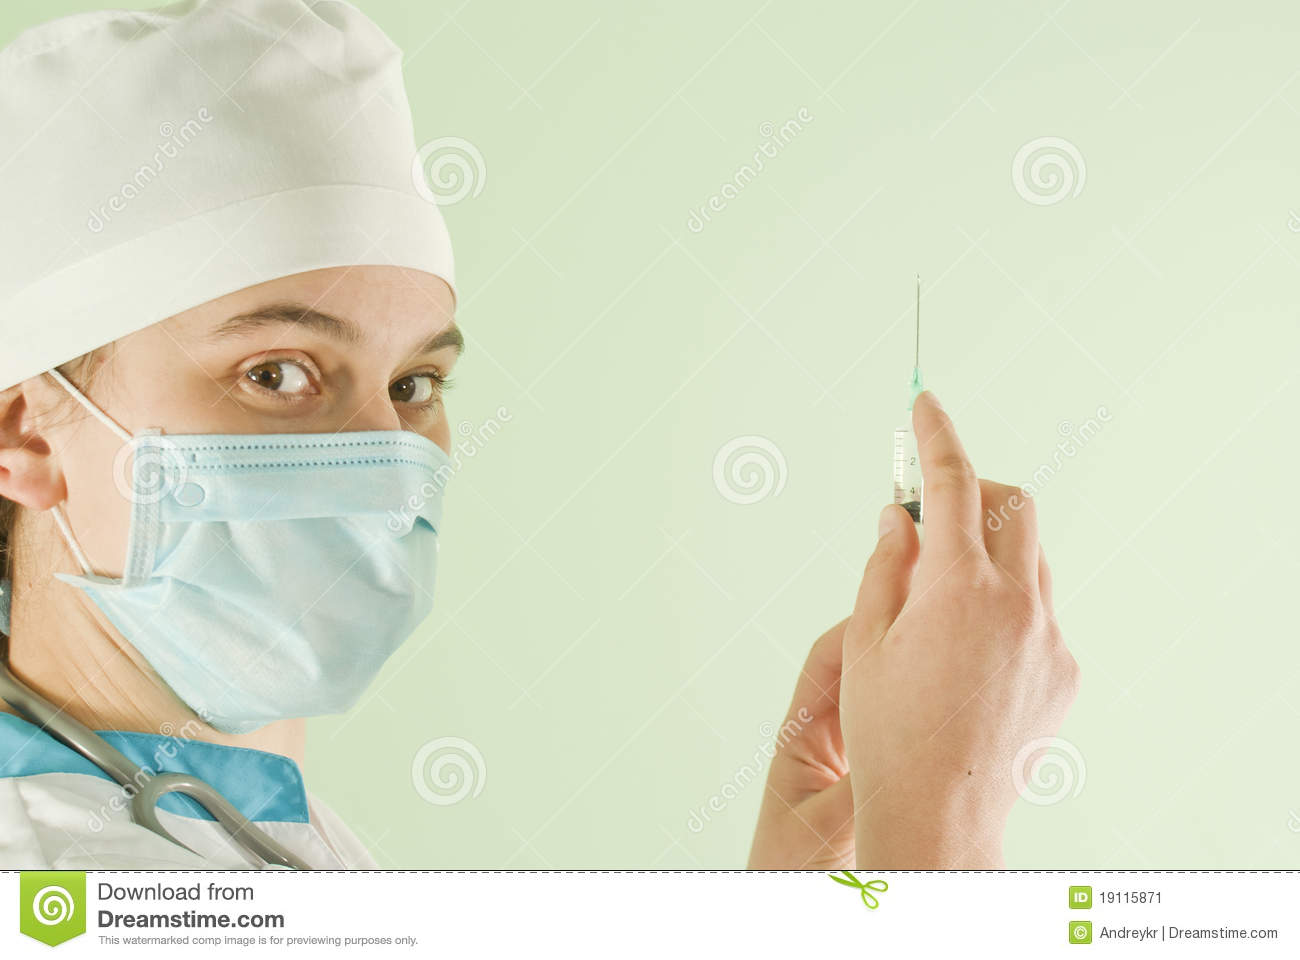mask: (95, 433, 457, 734)
